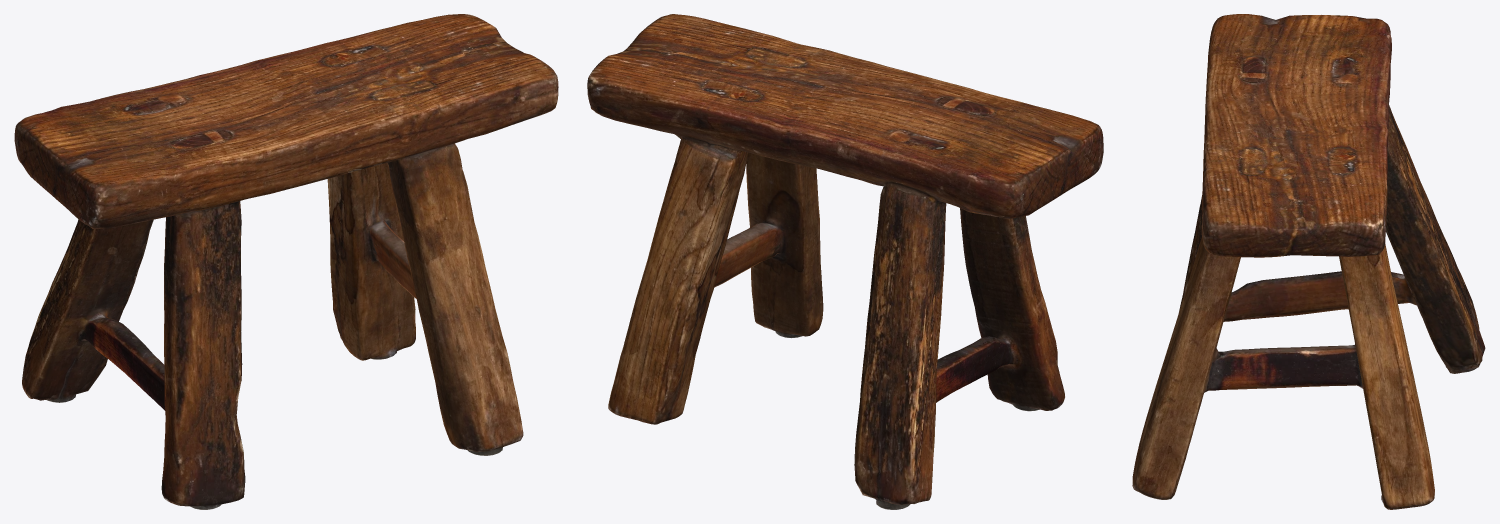
File: polyhaven-wooden-stool-02.glb
The picture shows the model from 3 angles, left to right: view 1: azimuth 30°, elevation 25°; view 2: azimuth 150°, elevation 25°; view 3: azimuth 270°, elevation 25°; orthographic projection. The views are drawn at different scales.
Visible parts, largest first — view 1: wooden_stool_02; view 2: wooden_stool_02; view 3: wooden_stool_02.
Boxes of the visible parts, x1,y1,x2,y2 form: wooden_stool_02: (14, 14, 558, 509); wooden_stool_02: (587, 14, 1103, 509); wooden_stool_02: (1132, 14, 1485, 509).
Bounding box in the file's own units: 0.2652 × 0.1819 × 0.1831.
1 material, 1 textured.
